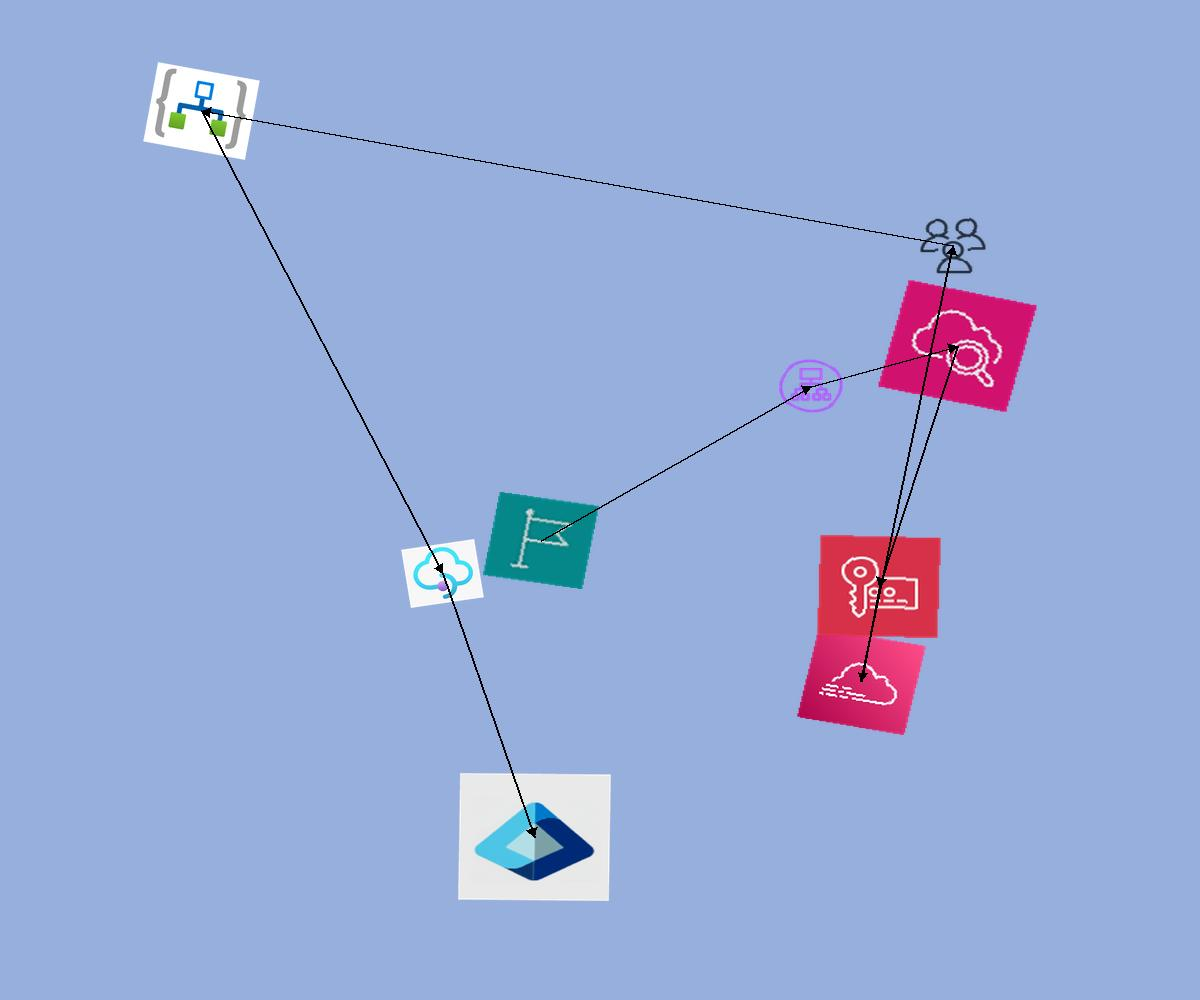AWS-CloudTrail: (796, 627, 927, 736)
AWS-CloudWatch: (877, 279, 1038, 413)
AWS-Key-Management-Service: (816, 534, 942, 639)
AWS-Region: (482, 491, 600, 590)
AWS-Res_Elastic-Load-Balancing_Application-Load-Balancer: (775, 356, 847, 416)
AWS-Res_Users: (916, 215, 990, 277)
Azure_api_gateway: (401, 539, 484, 608)
Azure_integration-204-Logic-Apps: (143, 62, 260, 160)
Azure_microsoft_entra: (458, 773, 611, 901)
